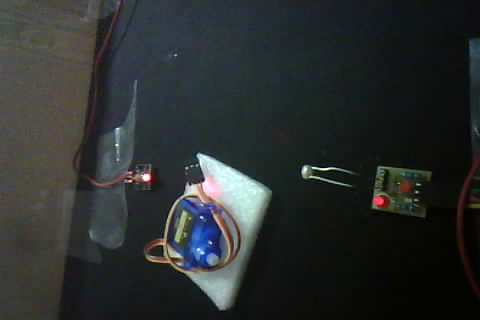motor: (154, 154, 254, 299)
